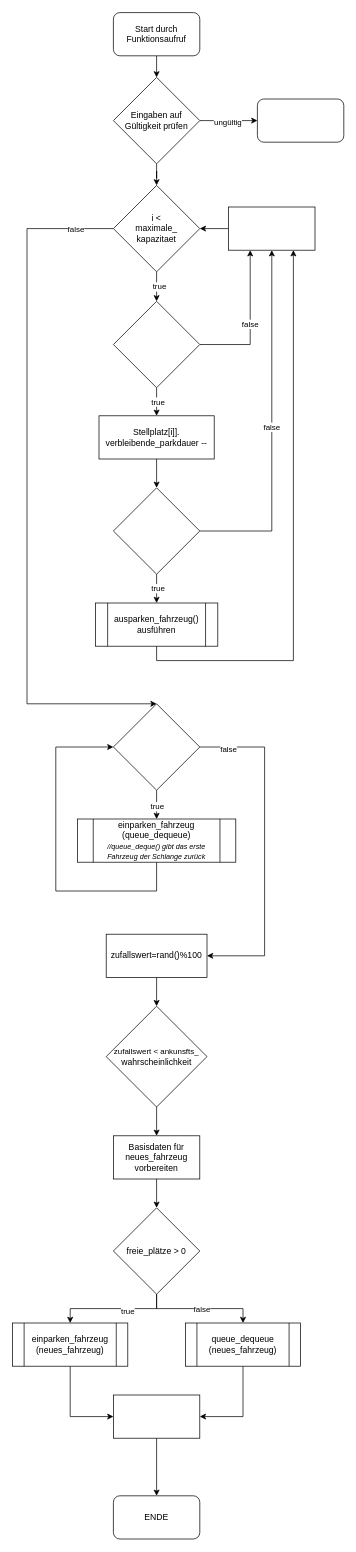
This 356x1552 diagram has some shape labels left out. The centre of each missing label's shape, as x and y in pixels:
"Ausgabedaten aktualisieren" belongs at (x=156, y=1416).
"freie_plätze >0 && Queue_länge >0" belongs at (x=156, y=746).
"i++" belongs at (x=271, y=228).
"parkdauer <=0" belongs at (x=156, y=530).
"RETURN" belongs at (x=300, y=120).
"Stellplatz[i] belegt?" belongs at (x=156, y=344).
